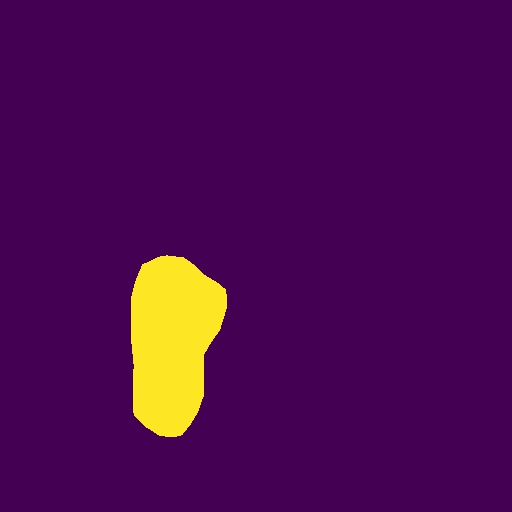Gliomia_tumour: (131, 255, 227, 437)
